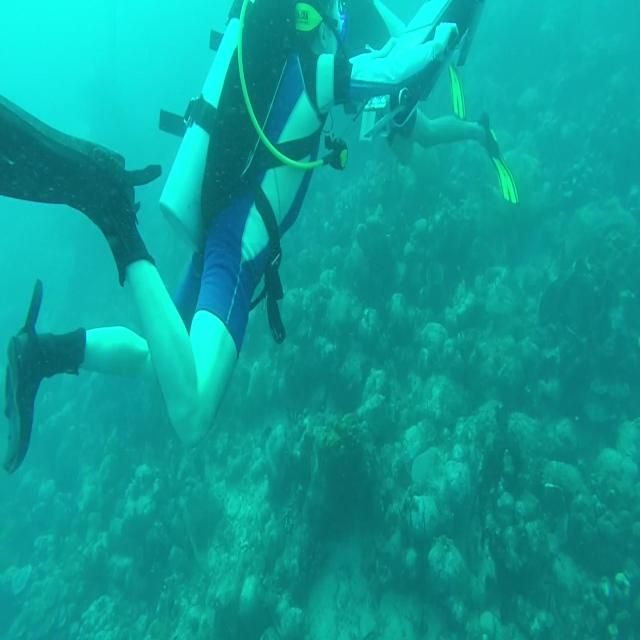human: (0, 0, 327, 486), (314, 0, 524, 211)
